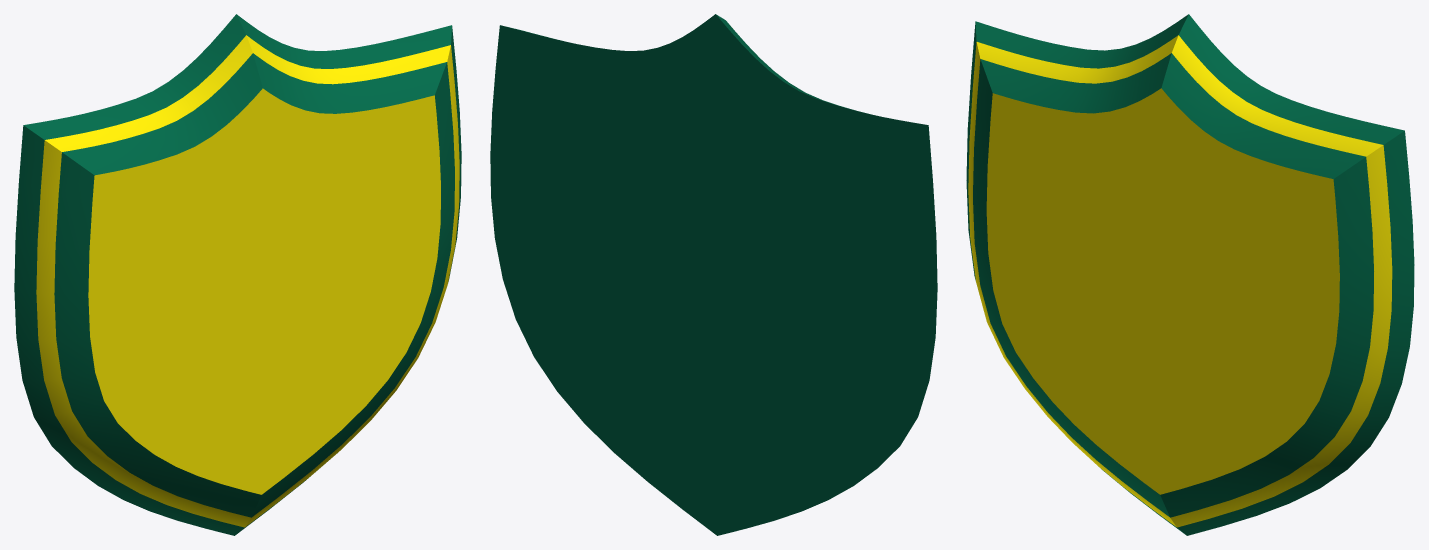
The model's file is inmunidad 1.fbx.
3 views of the same model, side by side, from view 1: azimuth 30°, elevation 25°; view 2: azimuth 150°, elevation 25°; view 3: azimuth 330°, elevation 25° (orthographic).
Parts seen in each view (by area): view 1: Line010; view 2: Line010; view 3: Line010.
Boxes of the visible parts, box(x1,y1,x2,y2) form: Line010: box(14, 14, 461, 535); Line010: box(490, 14, 937, 535); Line010: box(966, 14, 1414, 535).
Bounding box in the file's own units: 0.7655 × 0.8529 × 0.08.
